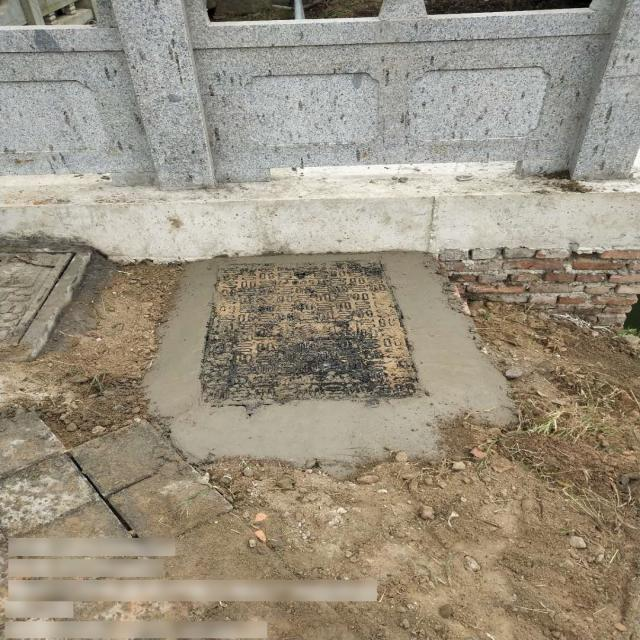Good: (192, 256, 431, 404)
